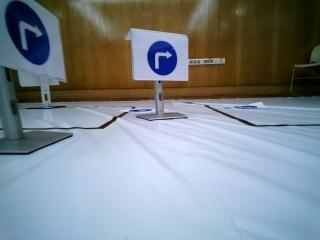right: (5, 2, 69, 77), (132, 27, 192, 80)
